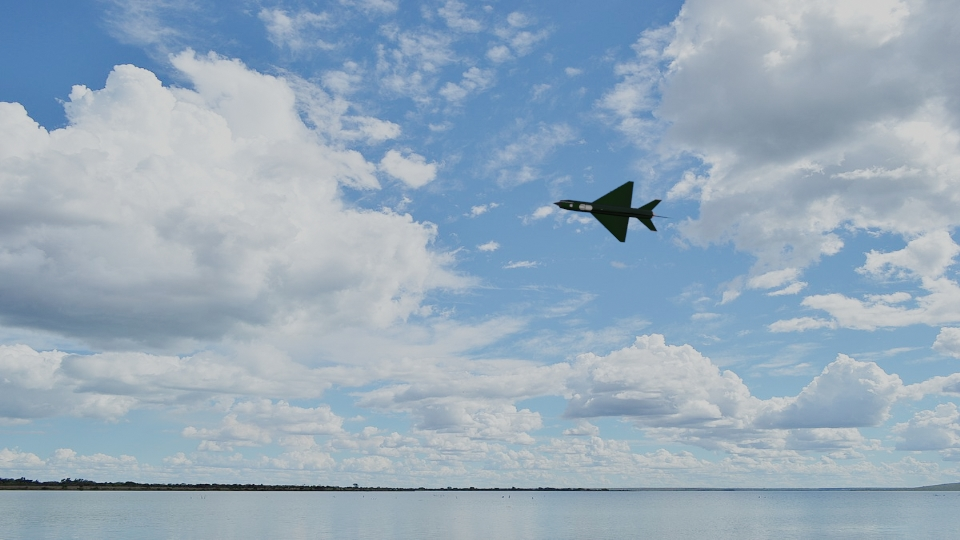plane: (554, 181, 671, 244)
